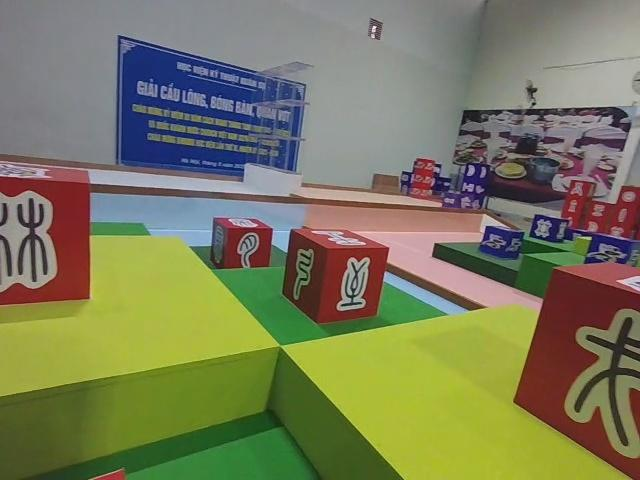R2 Fake: (511, 257, 640, 480), (0, 154, 93, 309), (279, 225, 392, 327), (208, 213, 275, 271)
